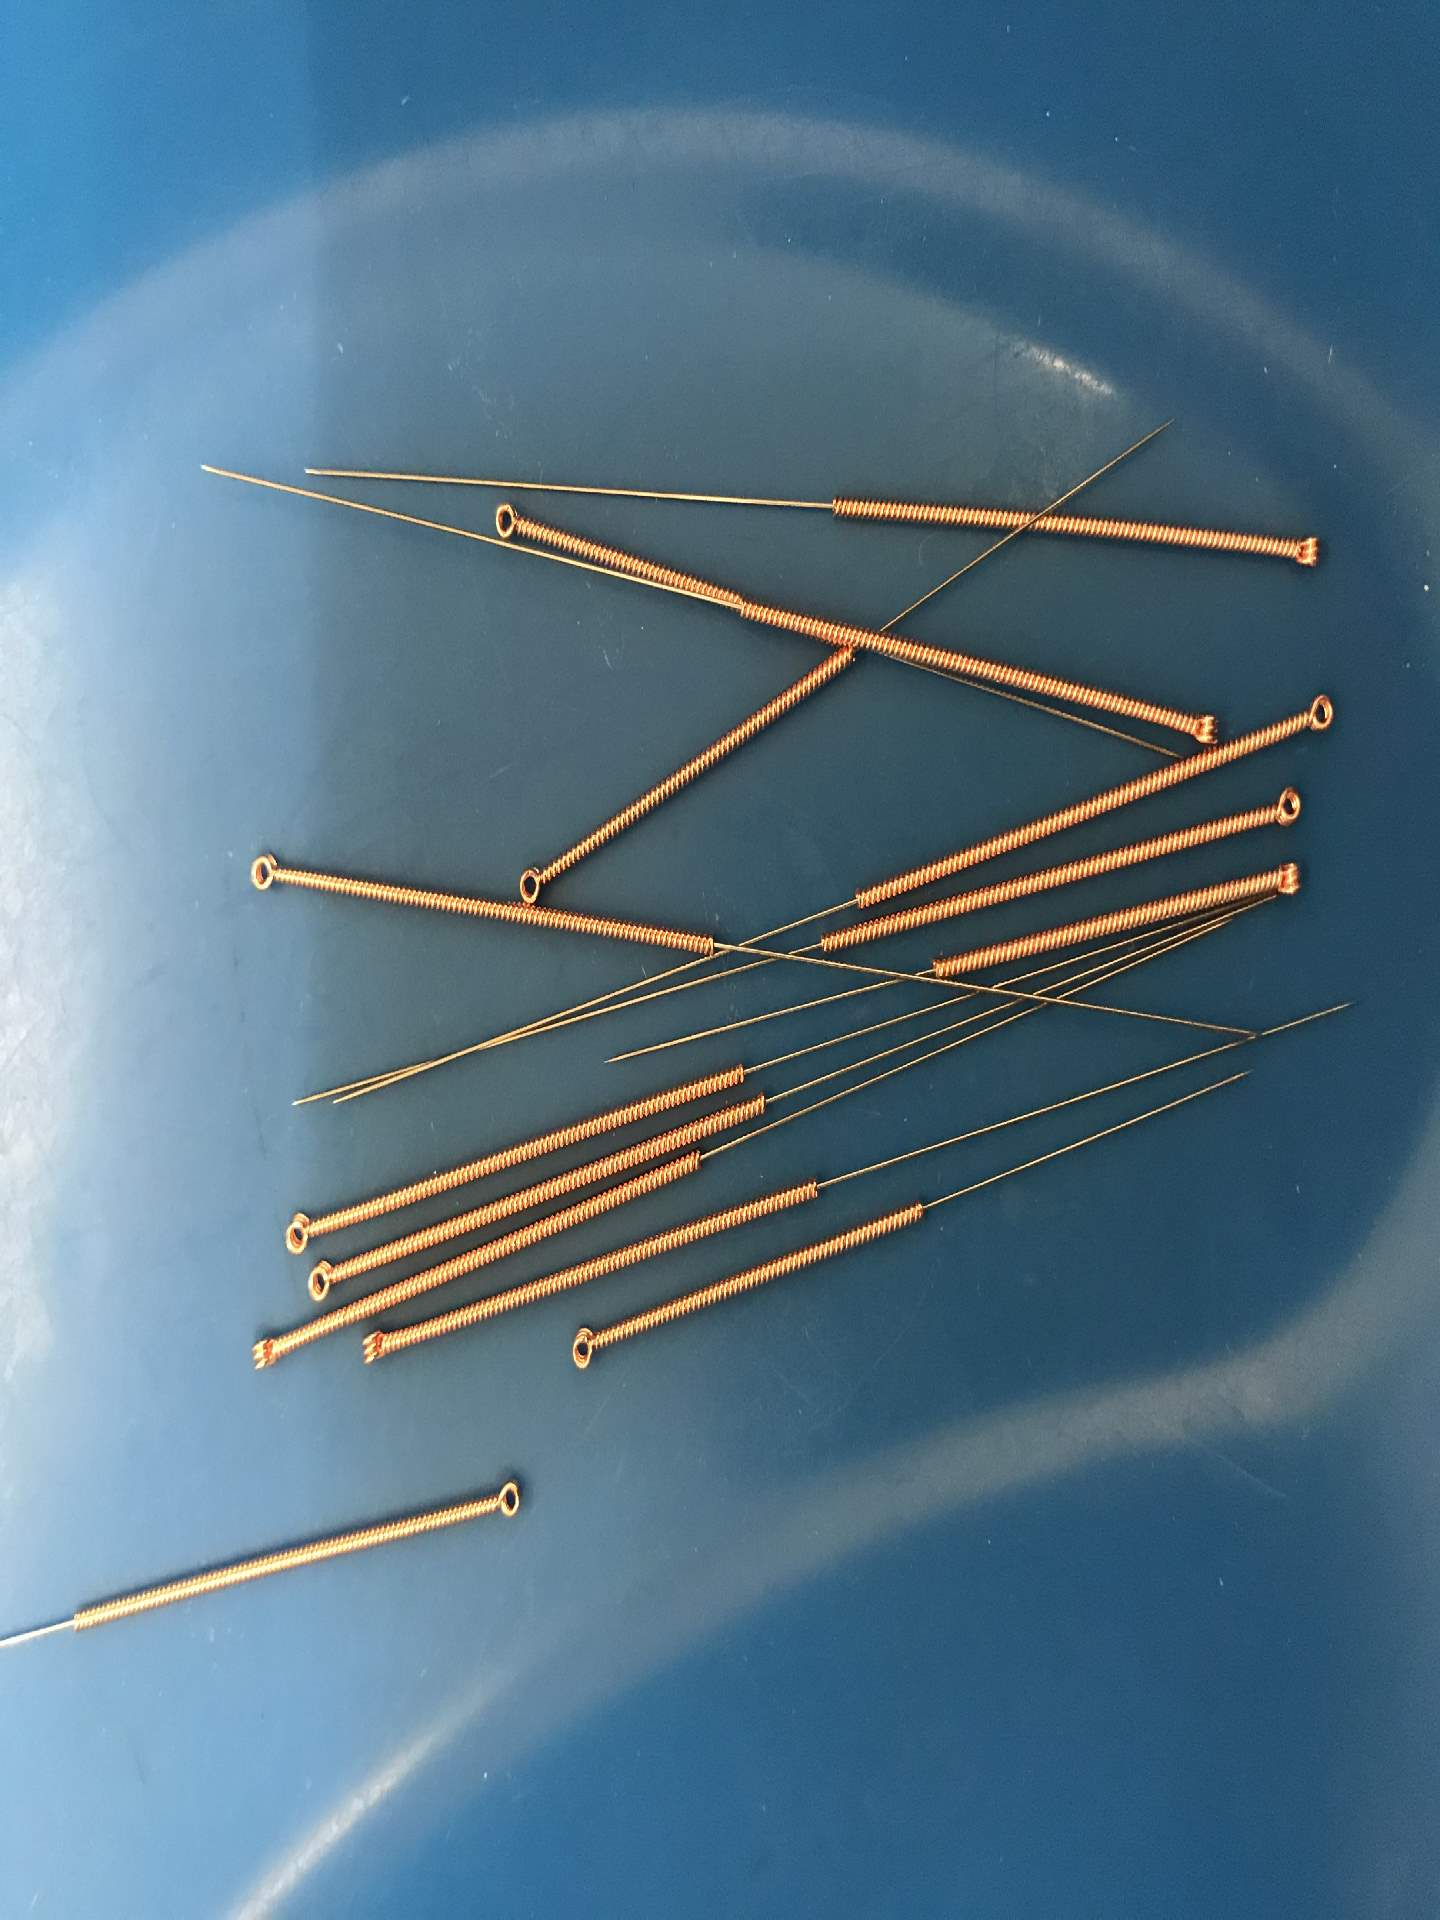needle: (558, 1315, 616, 1380), (1289, 682, 1348, 744), (1274, 520, 1331, 581), (1254, 851, 1313, 909), (237, 841, 292, 903), (275, 1205, 327, 1264), (239, 1323, 289, 1383), (1258, 779, 1310, 836), (476, 1469, 526, 1528), (352, 1321, 404, 1374), (484, 493, 534, 547), (510, 853, 557, 909), (298, 1252, 343, 1308), (1180, 700, 1225, 754)
